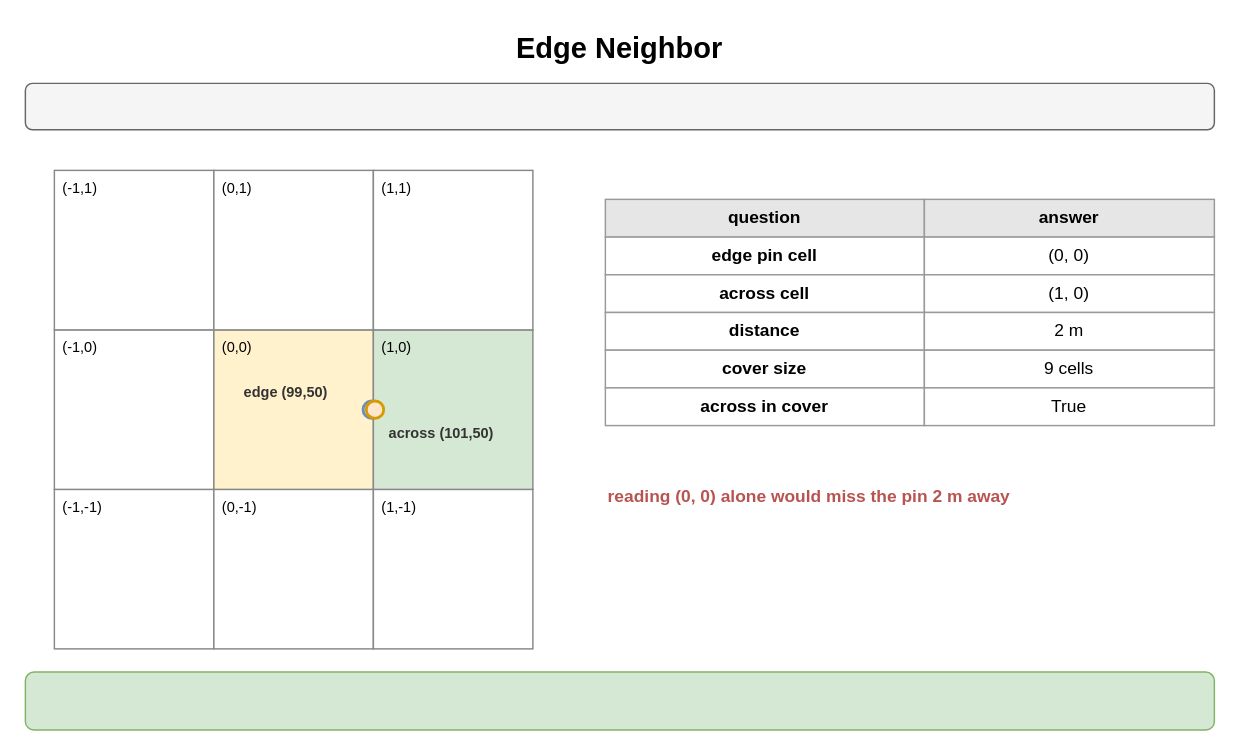
This 1240x755 diagram has some shape labels left out. The centre of each missing label's shape, as x and y in pixels:
100 m cells; edge pin (99, 50), across the line (101, 50): (x=619, y=106)
Answer: (0, 0) · (1, 0) · 2 m · 9 cells · covered True: (x=619, y=700)
